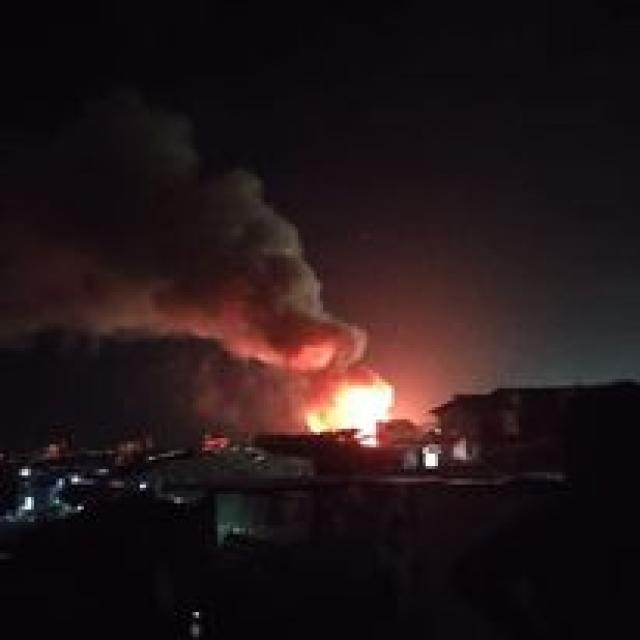Fire: (302, 368, 406, 452)
Smoke: (0, 53, 370, 364)
